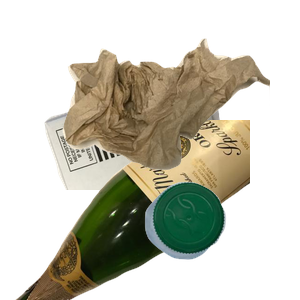glass: (13, 120, 253, 300)
paper: (42, 68, 275, 248)
plastic: (142, 179, 300, 300)
trash: (60, 36, 300, 198)
